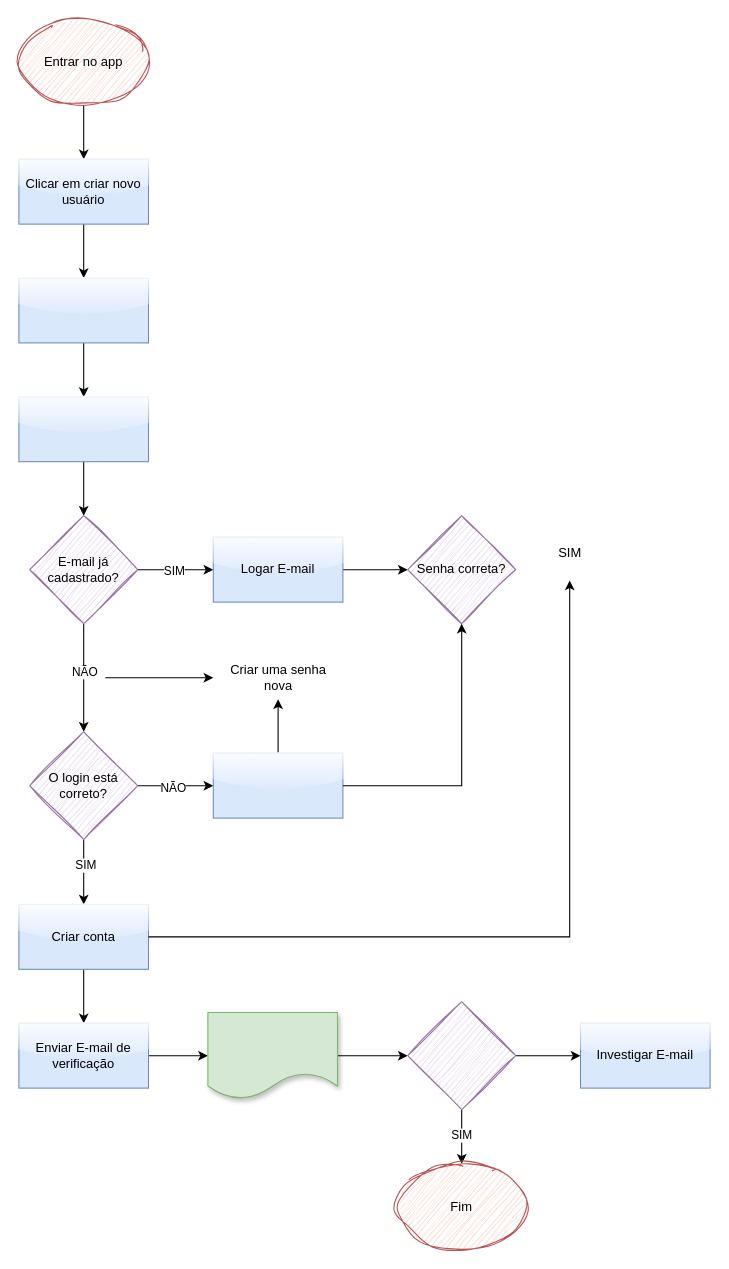
The diagram is 729 pixels wide and 1269 high, and some of its shapes have lost their labels. Here are the shapes that lost their labels. From the top down, the centre of each, then its label:
point (83, 310): Nome do usuário
point (83, 429): Colocar E-mail
point (277, 785): Esqueceu a senha
point (273, 1056): Verificar E-mail
point (461, 1055): Foi sucedido?
